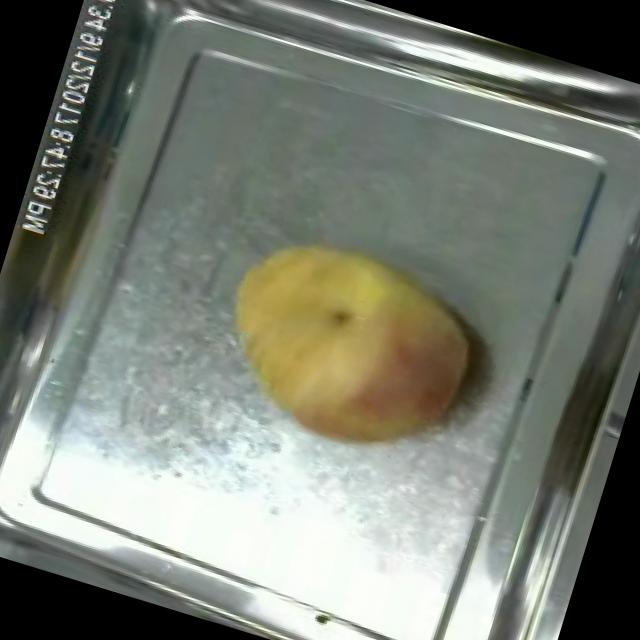Fruit: (194, 207, 501, 486)
